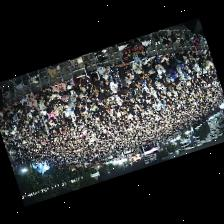person: (83, 60, 100, 83), (153, 56, 166, 76), (73, 74, 87, 91), (149, 67, 160, 85), (118, 62, 131, 76), (175, 56, 187, 71), (168, 68, 181, 81), (53, 81, 66, 94), (143, 71, 152, 87), (175, 50, 187, 62), (98, 65, 110, 77), (119, 71, 132, 82), (42, 87, 53, 99), (133, 69, 144, 81), (142, 57, 152, 70), (160, 51, 169, 65), (109, 63, 117, 78), (120, 76, 130, 88), (123, 85, 133, 97), (64, 105, 72, 120), (116, 83, 124, 98), (21, 94, 29, 109), (85, 81, 94, 94), (132, 60, 141, 73), (5, 102, 14, 115), (68, 88, 77, 101), (110, 78, 118, 92), (95, 80, 104, 92), (68, 97, 76, 110), (176, 63, 184, 76), (50, 99, 60, 109), (101, 74, 110, 85), (12, 101, 21, 112), (60, 97, 68, 109), (48, 109, 55, 122), (51, 92, 60, 102), (29, 98, 37, 109), (60, 89, 68, 100), (39, 99, 46, 111), (98, 93, 106, 103), (80, 85, 86, 97), (56, 104, 63, 114), (115, 68, 120, 82), (194, 63, 201, 73), (115, 94, 122, 104), (65, 80, 73, 88), (192, 50, 199, 59), (44, 96, 50, 105), (197, 49, 203, 57), (203, 49, 207, 57)
